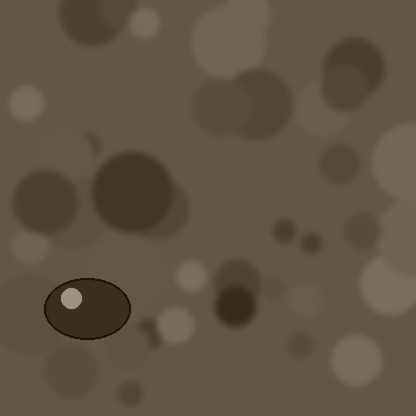gota: (44, 280, 130, 344)
